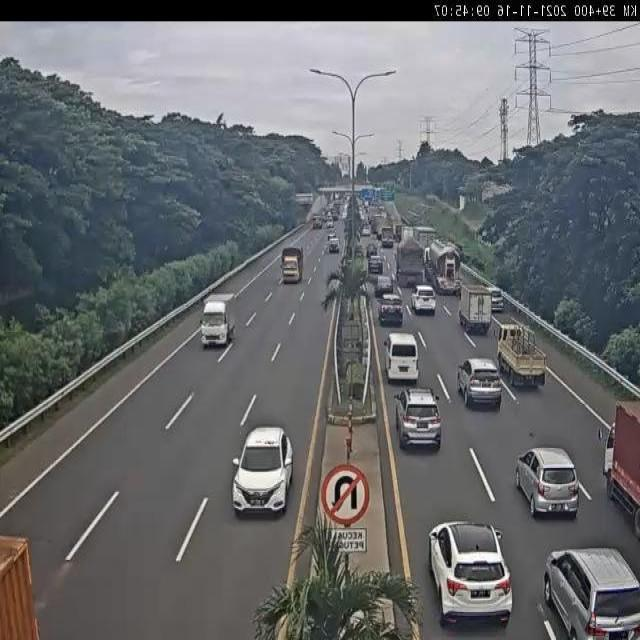Car: (427, 519, 513, 629), (541, 547, 640, 640), (230, 426, 298, 516), (514, 446, 580, 518), (393, 387, 443, 451), (457, 357, 503, 410), (377, 294, 404, 326), (411, 284, 437, 316), (488, 285, 504, 313), (374, 276, 394, 297), (368, 253, 383, 274), (366, 243, 377, 257), (327, 228, 337, 240), (362, 225, 371, 237)
Truck: (597, 399, 640, 540), (491, 323, 547, 390), (425, 236, 465, 297), (198, 292, 236, 349), (458, 283, 493, 335), (394, 234, 425, 286), (279, 244, 304, 284), (411, 225, 437, 243), (381, 226, 394, 247), (400, 225, 416, 240), (328, 236, 340, 254), (311, 214, 323, 230)
Van: (382, 332, 420, 384)
